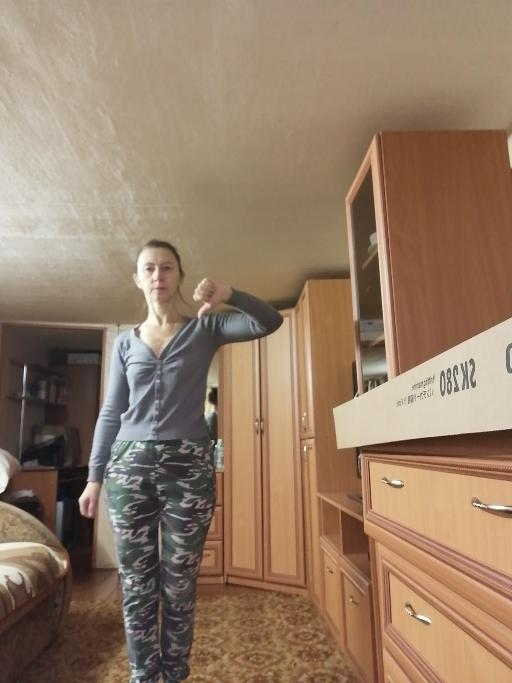dislike: (192, 276, 225, 321)
no_gesture: (77, 480, 102, 520)
